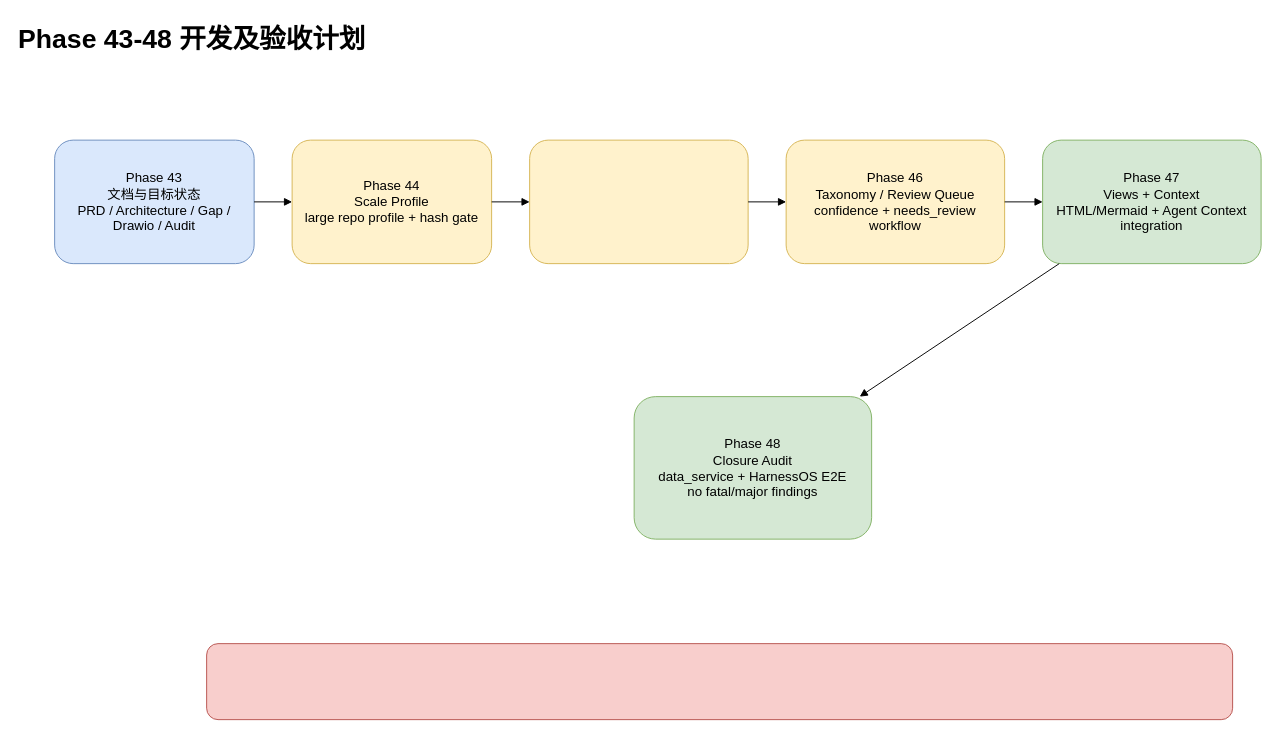
This 1278x736 diagram has some shape labels left out. The centre of each missing label's shape, as x and y in pixels:
"Phase 45 Multi-language / Config TS/JS/Vue + config/deploy/schema facts" belongs at point 638,201.
"每阶段必须：专项开发计划 + 验收计划 + 审计报告 + 真实数据 E2E + false-green review" belongs at point 719,681.
